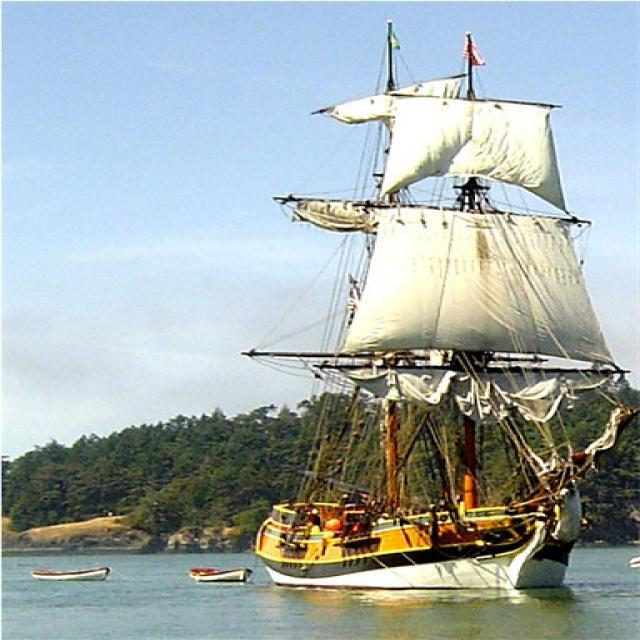Ship: (252, 23, 640, 605)
